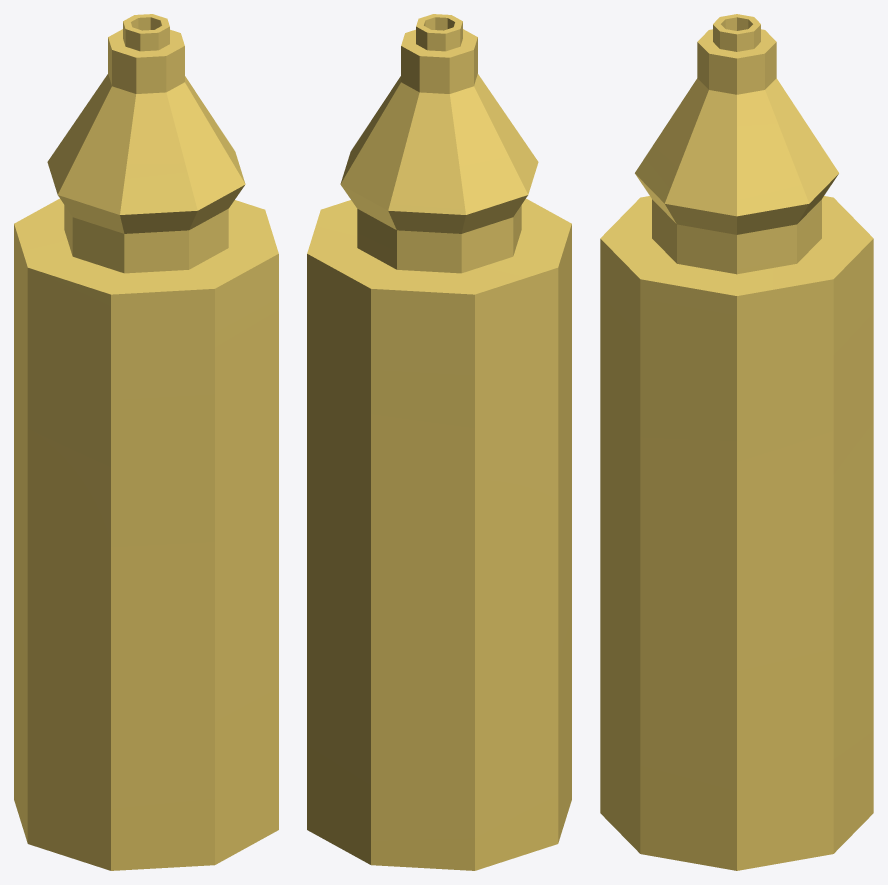
Rendered from sauce1.glb.
The picture shows the model from 3 angles, left to right: view 1: azimuth 30°, elevation 25°; view 2: azimuth 150°, elevation 25°; view 3: azimuth 270°, elevation 25°; orthographic projection.
Parts seen in each view (by area): view 1: Sauce1.001; view 2: Sauce1.001; view 3: Sauce1.001.
Boxes of the visible parts, x1,y1,x2,y2 form: Sauce1.001: [14, 14, 278, 870]; Sauce1.001: [307, 14, 571, 870]; Sauce1.001: [600, 14, 873, 870].
Bounding box in the file's own units: 0.0974 × 0.3103 × 0.0974.
1 material, 1 textured.
